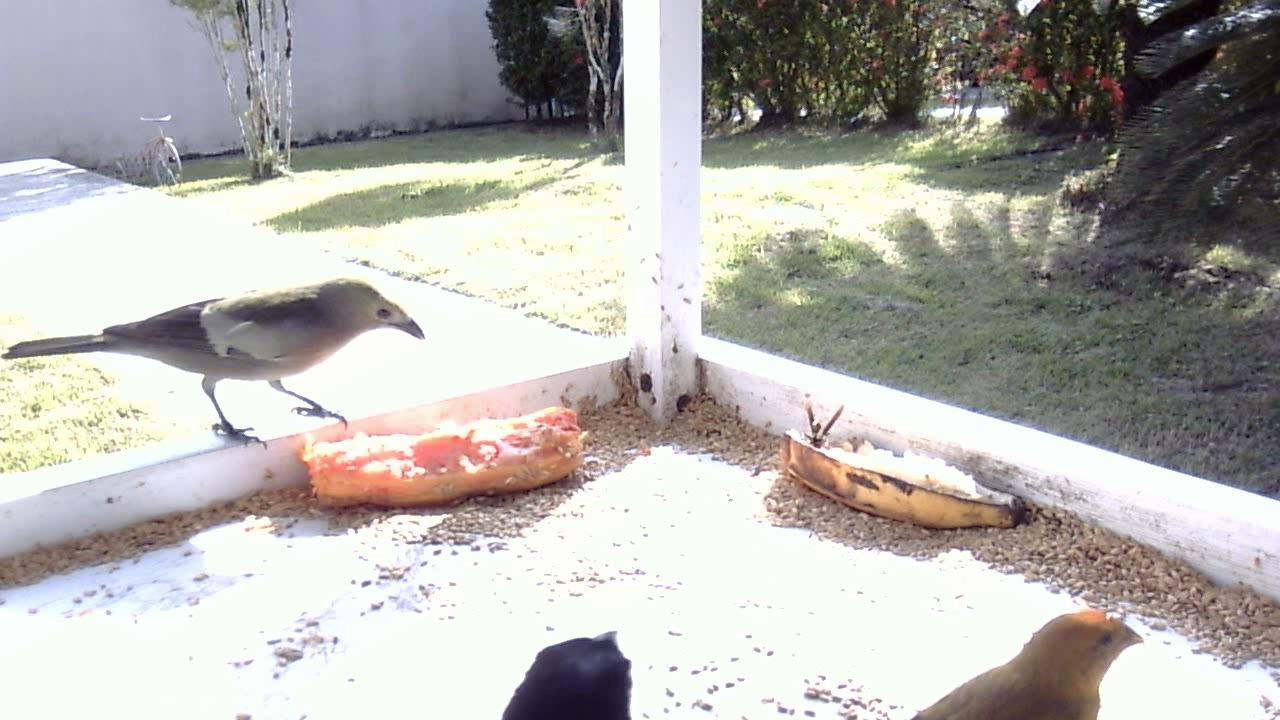canario_do_amazonas: (893, 601, 1149, 720)
sanhaco_do_coqueiro: (7, 263, 435, 469)
